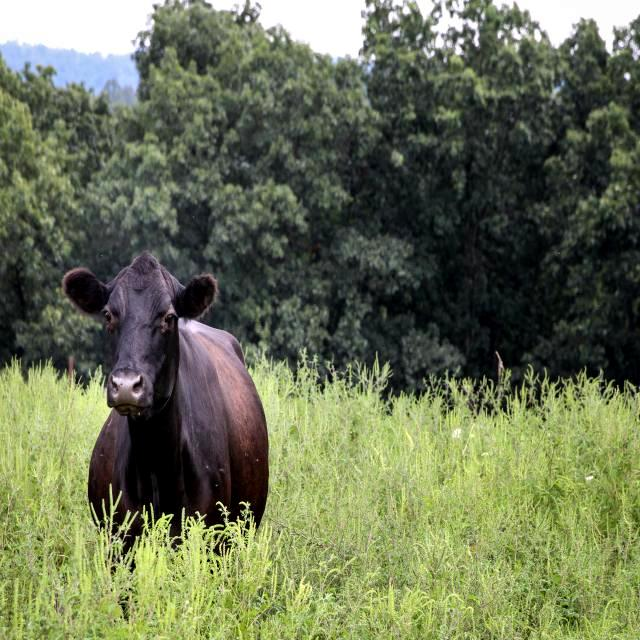COW: (62, 252, 269, 535)
